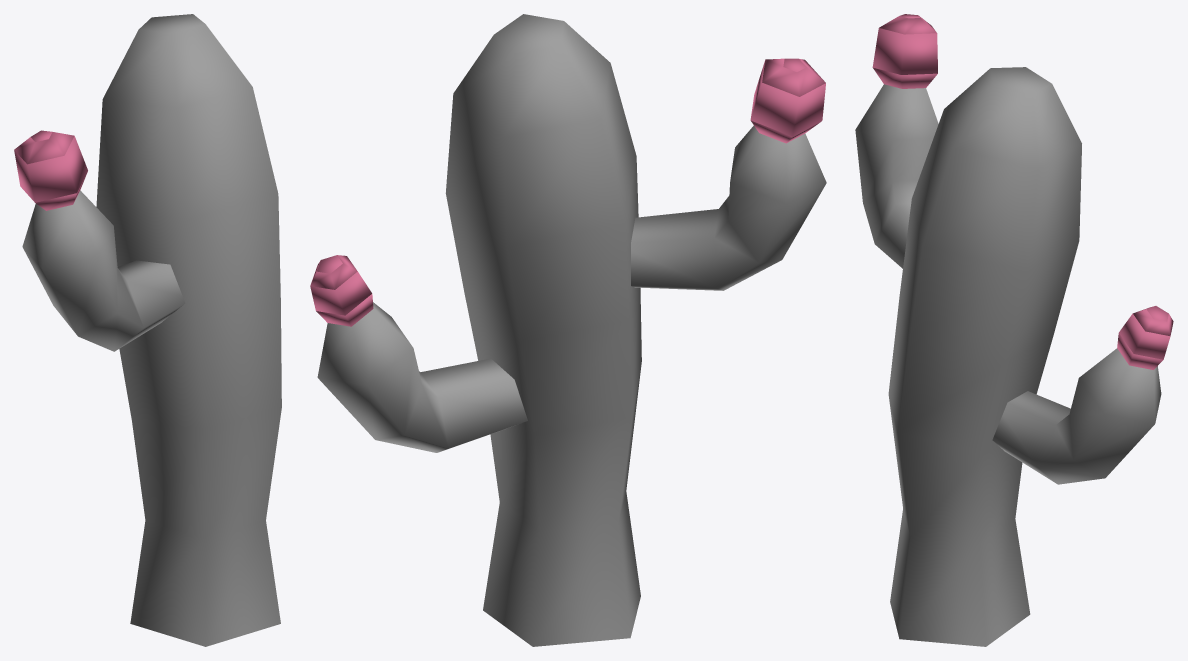
The model's file is WaterCactus.fbx.
The picture shows the model from 3 angles, left to right: view 1: azimuth 30°, elevation 25°; view 2: azimuth 150°, elevation 25°; view 3: azimuth 270°, elevation 25°; orthographic projection. The views are drawn at different scales.
Parts seen in each view (by area): view 1: Cactus; view 2: Cactus; view 3: Cactus.
Part boxes in pixels (x1,y1,x2,y2): Cactus: [14, 14, 281, 646]; Cactus: [310, 14, 826, 646]; Cactus: [855, 14, 1173, 646].
Bounding box in the file's own units: 173 × 269 × 143.
